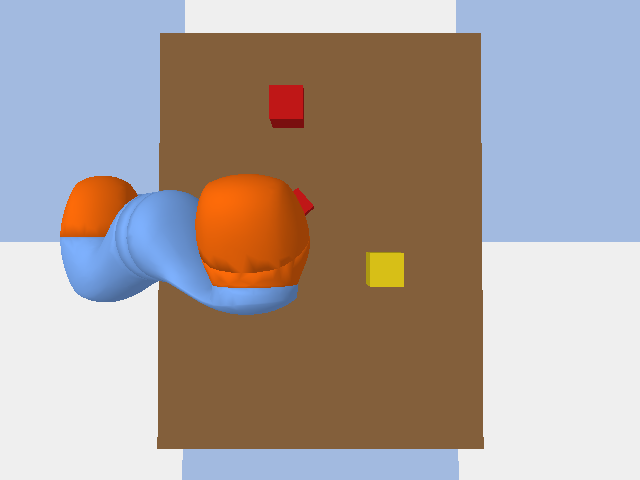red_obj: (269, 85, 303, 127), (293, 188, 313, 215)
yellow_obj: (366, 252, 403, 286)
